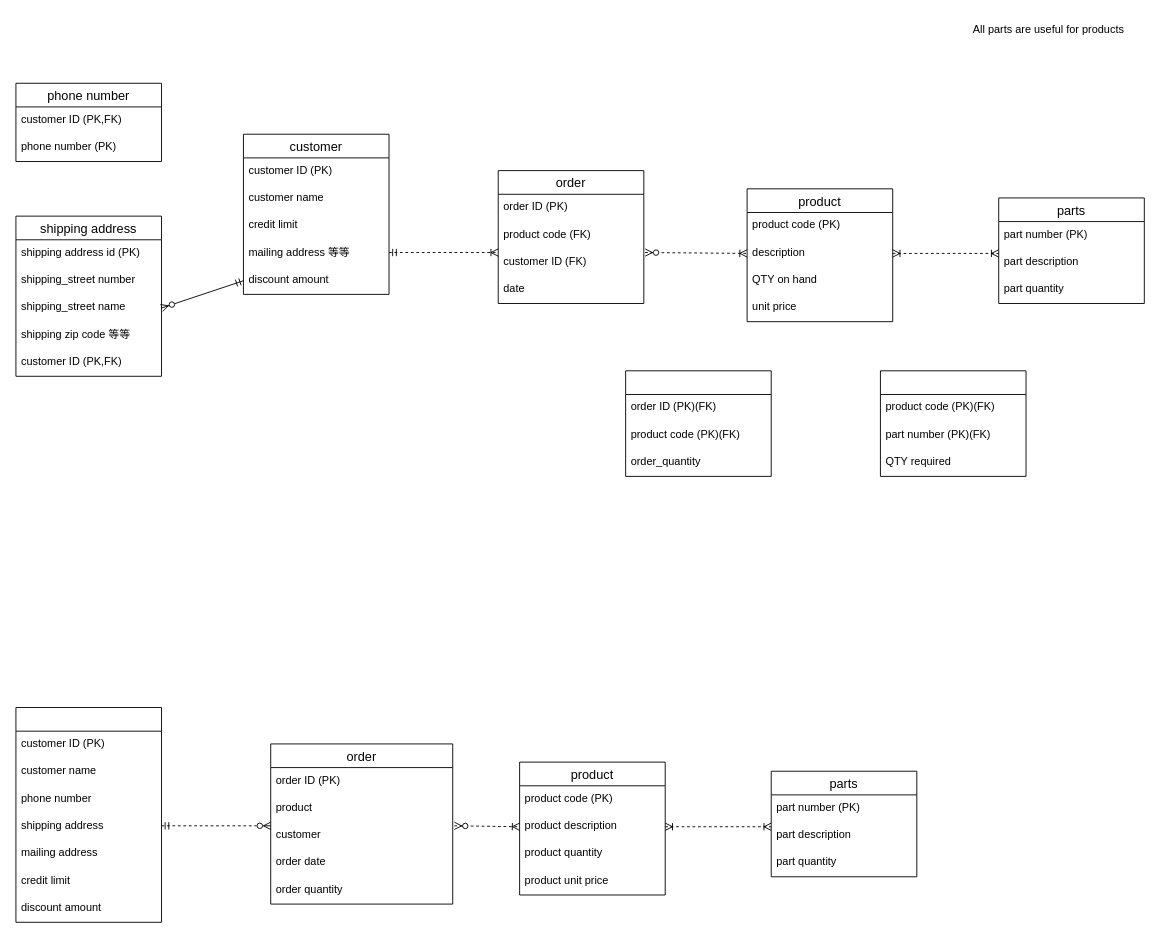
Image size: 1160x940. Some labels were removed from this diagram. The shapes that lost their labels are listed below. From the top down, each one's box as (x1, y1, x2, y2) in pixels, then its label:
(625, 370, 771, 476): order_product
(880, 370, 1026, 476): product_parts
(15, 707, 162, 922): costomer
